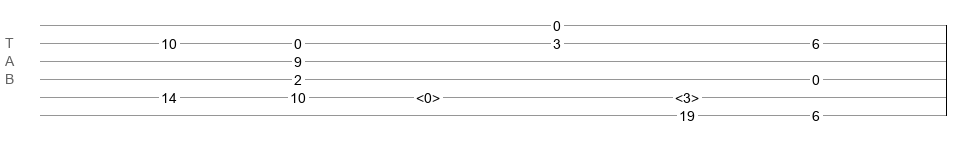0: (294, 36, 302, 46), (553, 18, 561, 28), (812, 72, 820, 82)
10: (161, 36, 177, 46), (290, 90, 306, 100)
14: (161, 90, 177, 100)
19: (679, 108, 695, 118)
2: (294, 72, 302, 82)
3: (553, 36, 561, 46)
6: (812, 108, 820, 118), (812, 36, 820, 46)
9: (294, 54, 302, 64)
harmonic: (416, 90, 440, 100), (675, 90, 699, 100)
